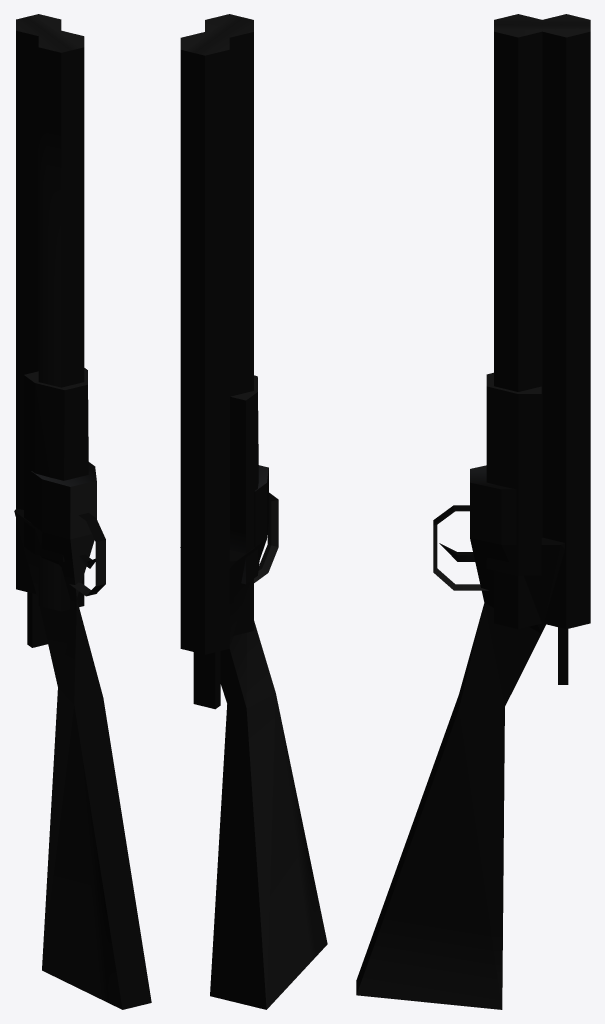
The model's file is Marlin1895GG__Mount_ScopeBase.fbx.
3 views of the same model, side by side, from view 1: azimuth 30°, elevation 25°; view 2: azimuth 150°, elevation 25°; view 3: azimuth 270°, elevation 25° (orthographic). The views are drawn at different scales.
Visible parts, largest first — view 1: asset_Marlin1895GG.001; view 2: asset_Marlin1895GG.001; view 3: asset_Marlin1895GG.001.
Boxes of the visible parts, x1,y1,x2,y2 form: asset_Marlin1895GG.001: (14, 14, 151, 1009); asset_Marlin1895GG.001: (180, 14, 327, 1009); asset_Marlin1895GG.001: (356, 14, 590, 1009).
Size of the model in its own units: 0.0348 by 0.57 by 0.1246.
